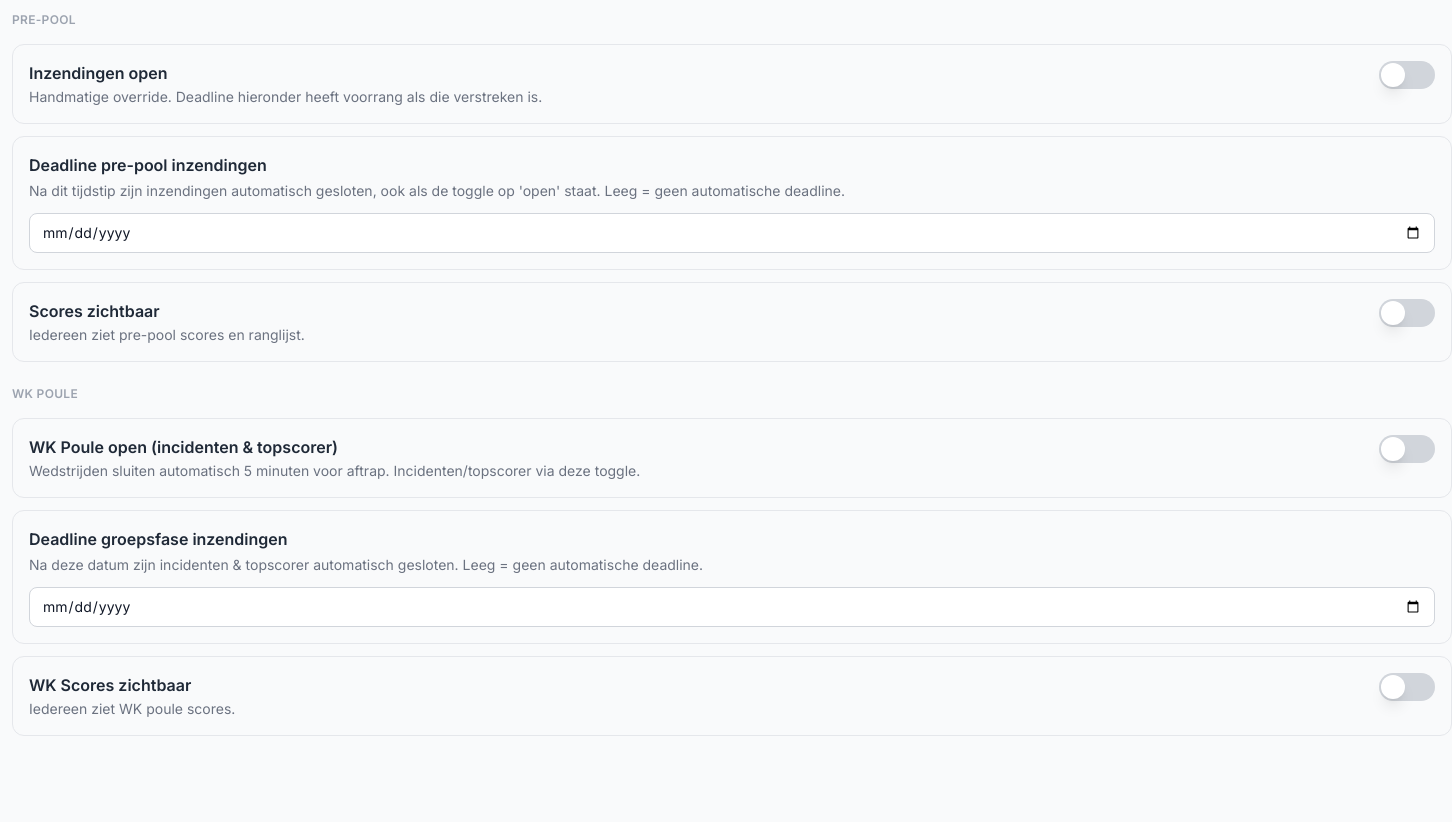
Test: AdminToggles › shows error status when save fails
The width and height of the screenshot is (1452, 822).
Click the switch in the row of "Inzendingen open". click: coordinates (1407, 75)
box: [1379, 61, 1435, 89]
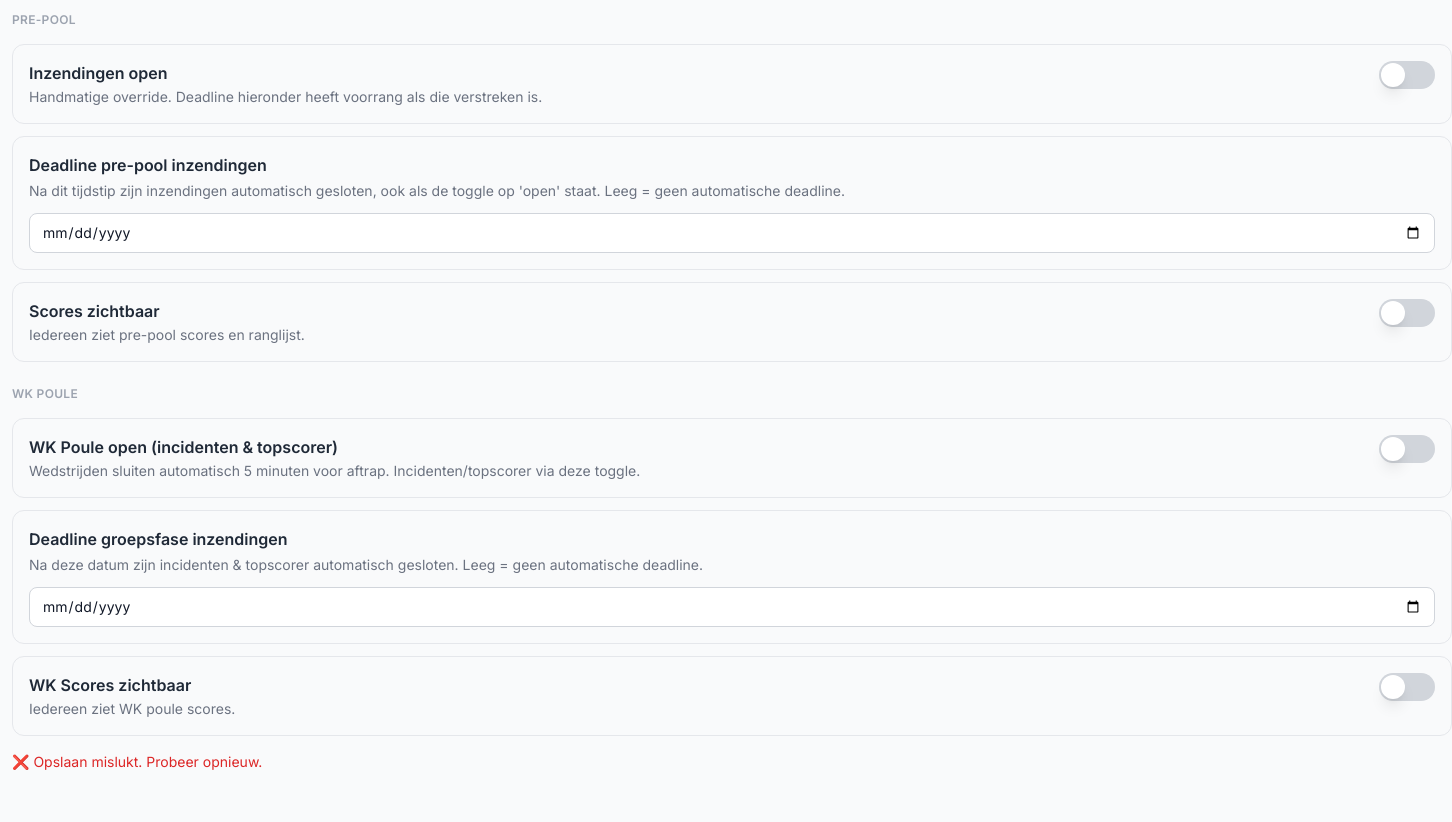
Expected: the text "❌ Opslaan mislukt. Probeer opnieuw." is shown, [12, 753, 262, 770]
